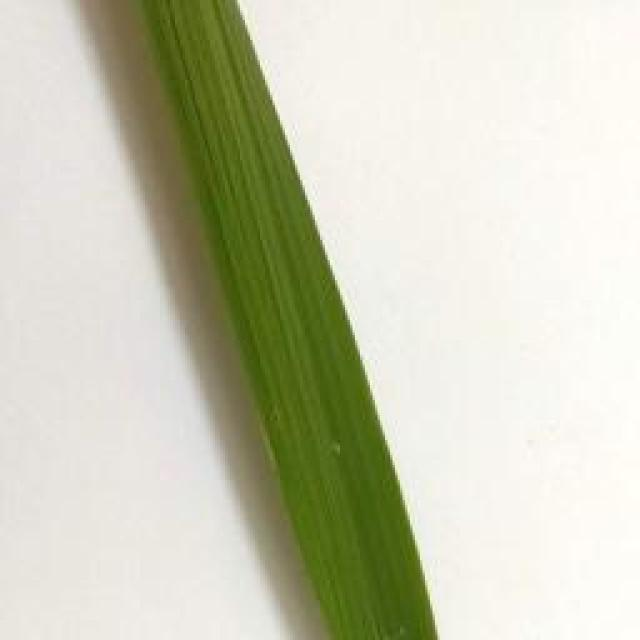Healthy-Plant: (140, 1, 440, 640)
